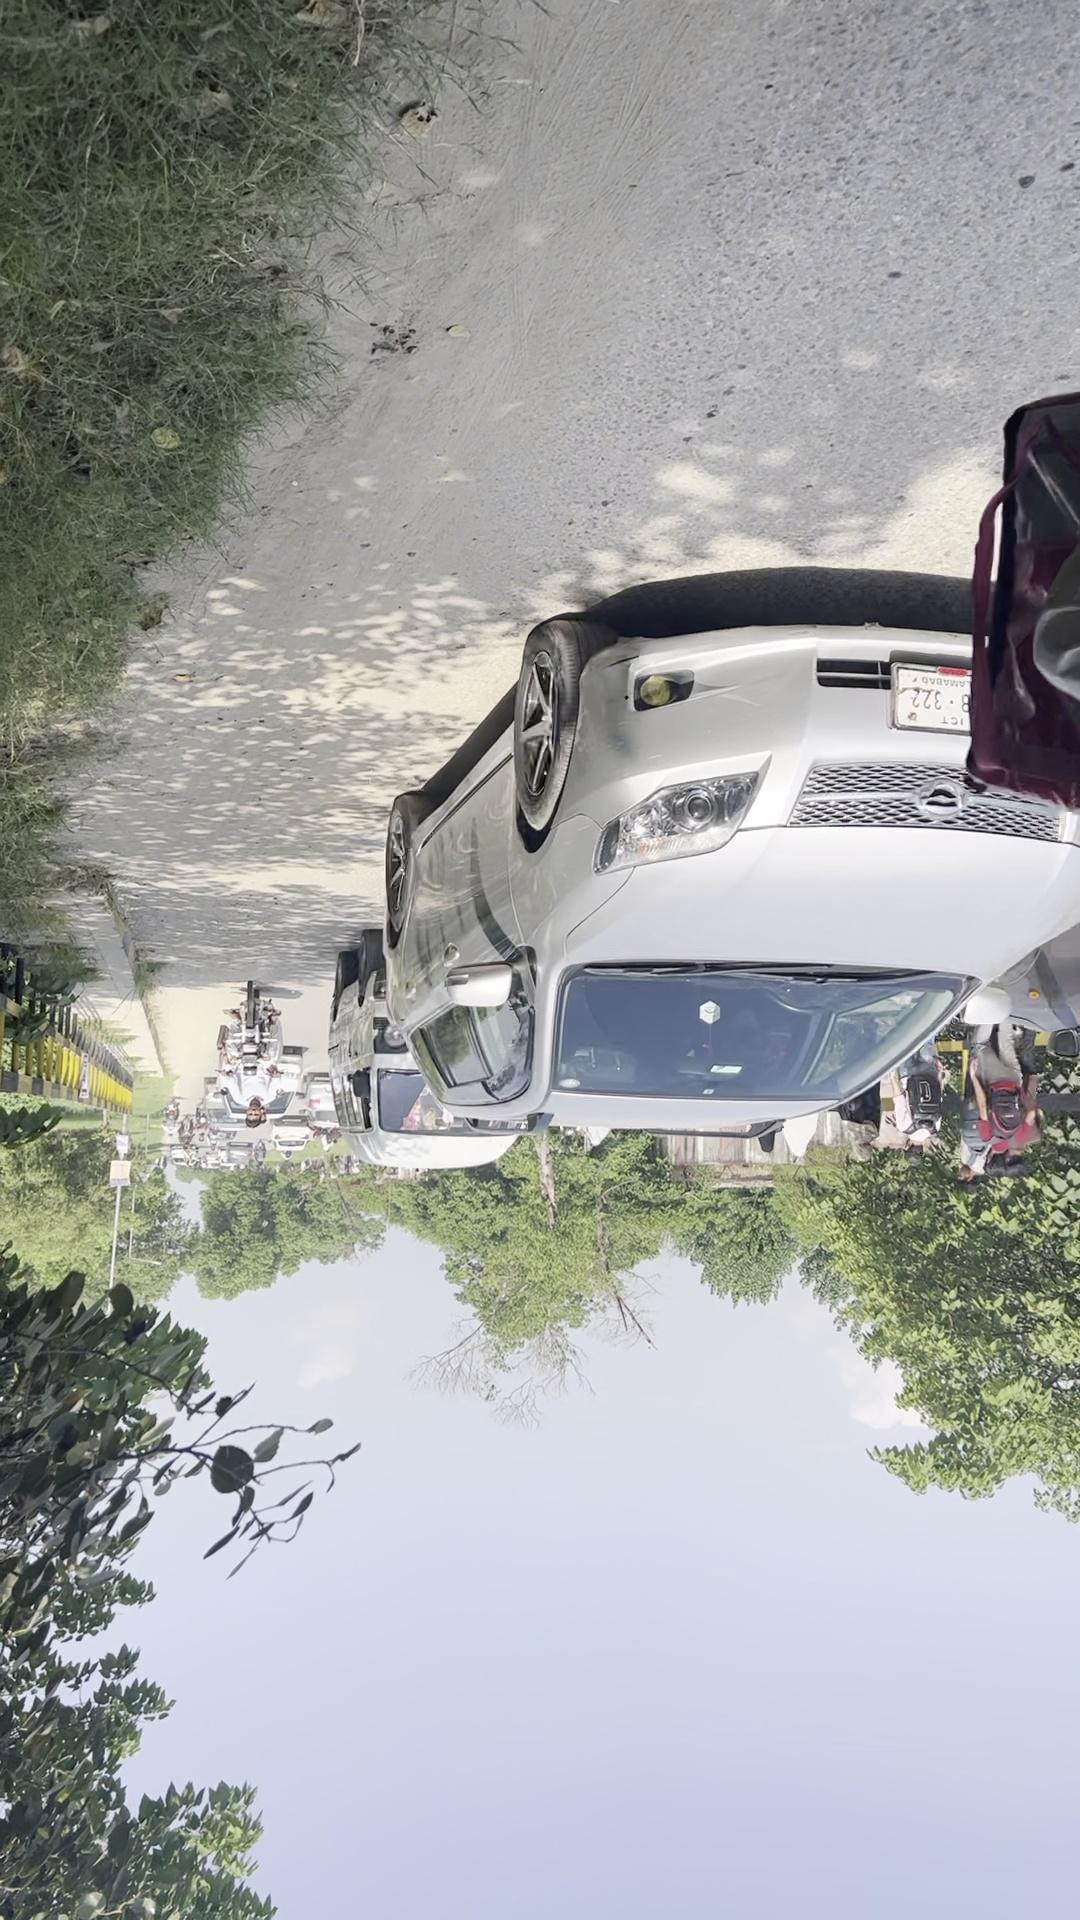windshield: (76, 810, 531, 960)
